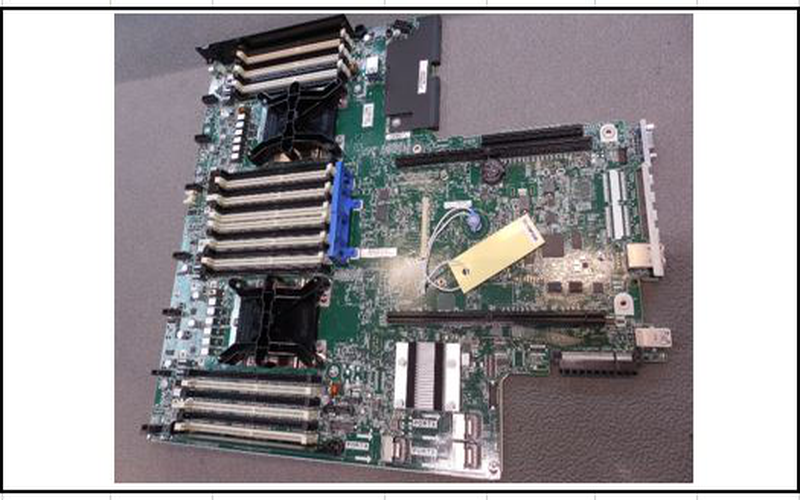Cirtuit-Board: (146, 22, 681, 479)
